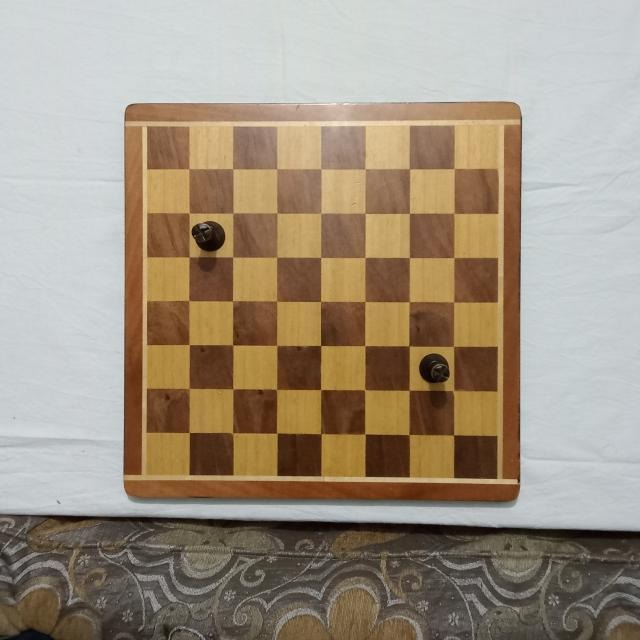black-rook: (191, 219, 226, 252), (419, 352, 453, 385)
